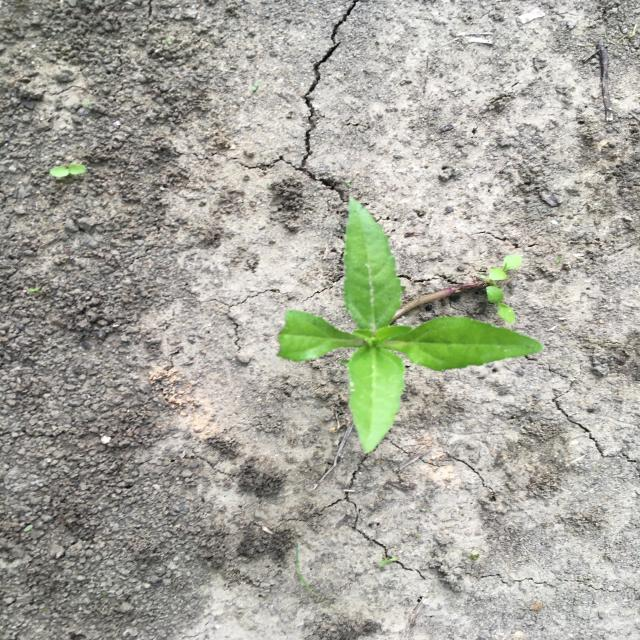Eclipta: (273, 194, 547, 457)
